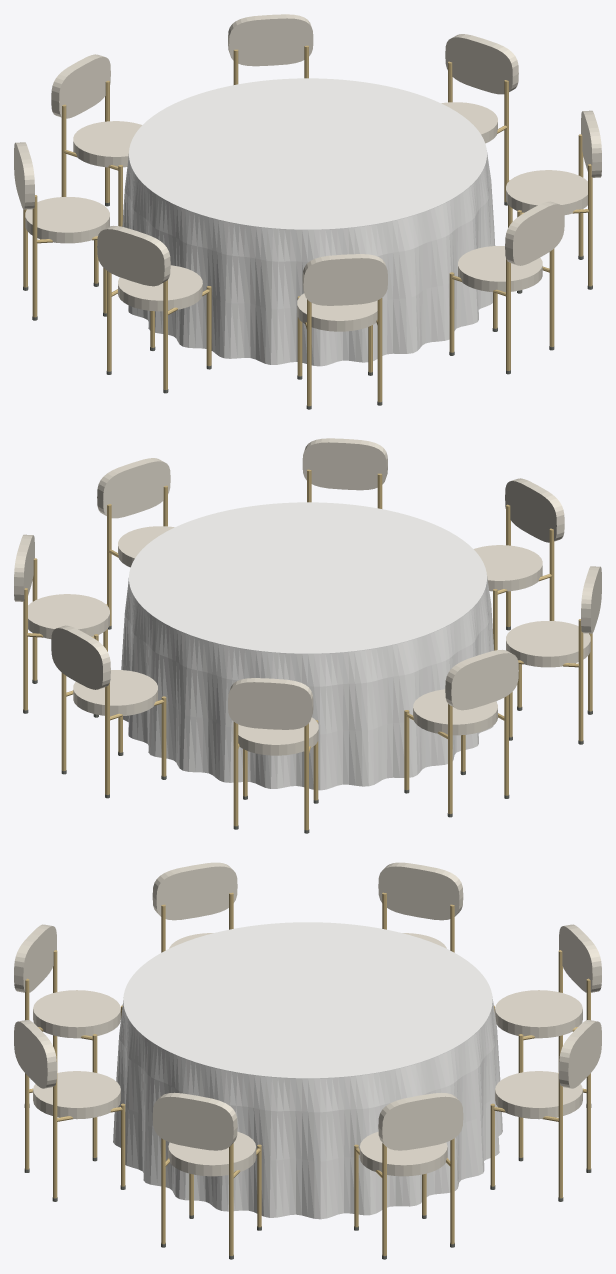
The model's file is wolf180-marseille8.glb.
3 views of the same model, one above another, from view 1: azimuth 30°, elevation 25°; view 2: azimuth 150°, elevation 25°; view 3: azimuth 270°, elevation 25° (orthographic). The views are drawn at different scales.
Bounding box in the file's own units: 2.88 × 0.85 × 2.88.
